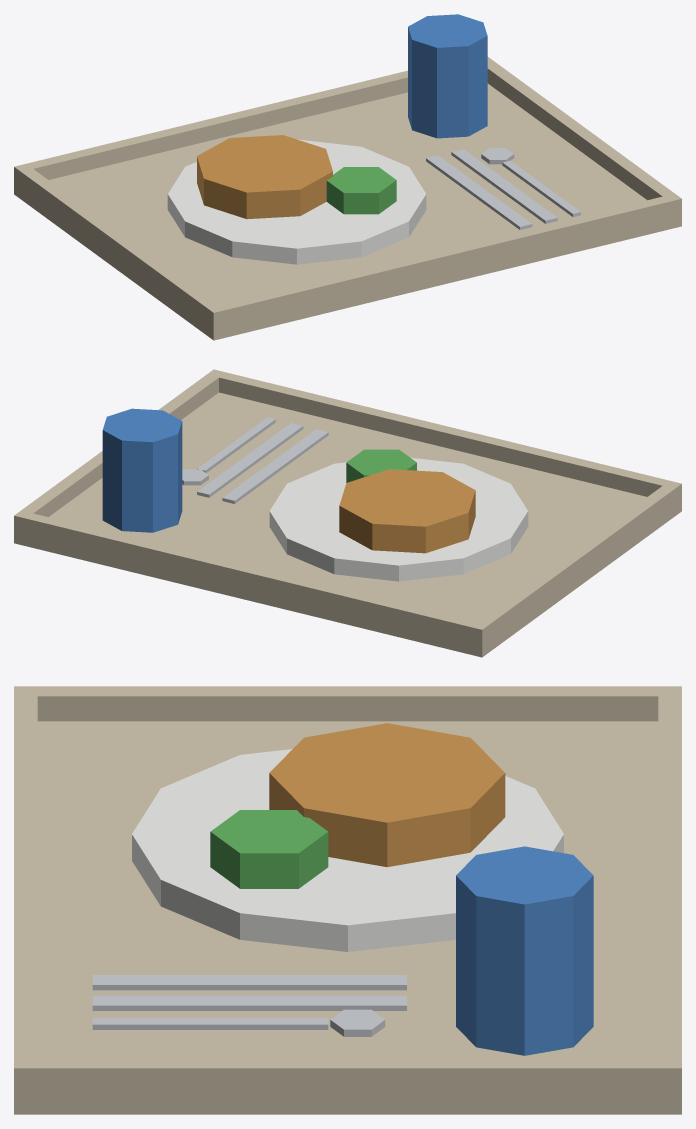
Rendered from Lunch_Tray.fbx.
The picture shows the model from 3 angles, top to bottom: view 1: azimuth 30°, elevation 25°; view 2: azimuth 150°, elevation 25°; view 3: azimuth 270°, elevation 25°; orthographic projection. The views are drawn at different scales.
Visible parts, largest first — view 1: Lunch_Tray; view 2: Lunch_Tray; view 3: Lunch_Tray.
Part boxes in pixels (<box>): Lunch_Tray: <box>14,14,681,340</box>; Lunch_Tray: <box>14,369,681,657</box>; Lunch_Tray: <box>14,686,681,1114</box>.
Bounding box in the file's own units: 0.46 × 0.097 × 0.34.
